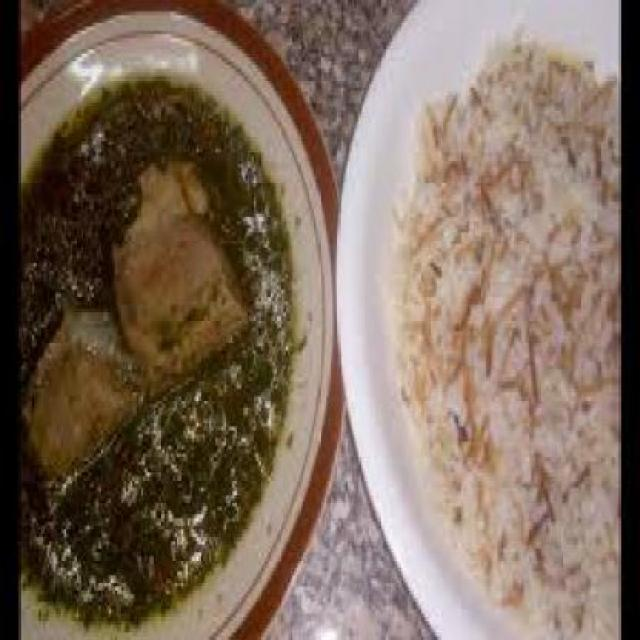fried rice: (386, 27, 619, 636)
molokhia: (18, 49, 312, 622)
